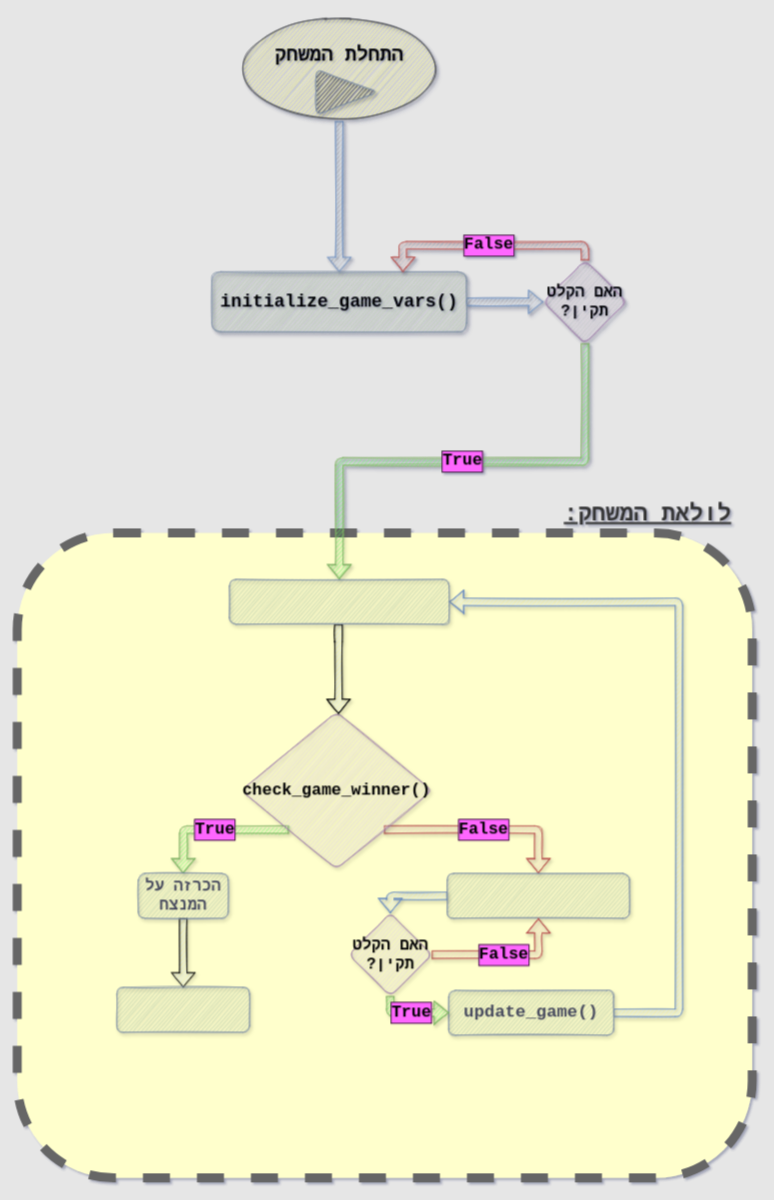
The diagram is 774 pixels wide and 1200 high, and some of its shapes have lost their labels. Each missing label, with the centre of its shape:
"display_game_status()" goes at pixel 340 603.
"input_from_player()" goes at pixel 539 897.
"סיום וסגירת המשחק" goes at pixel 183 1011.
